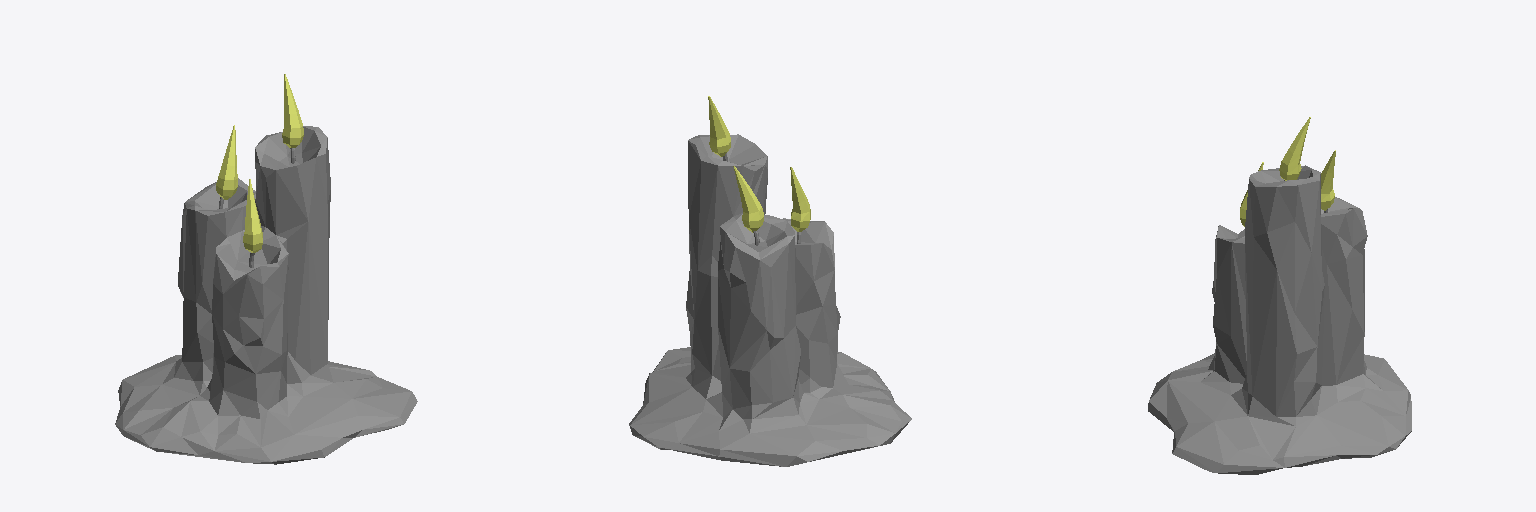
The model's file is candle14.obj.
The picture shows the model from 3 angles: view 1: azimuth 30°, elevation 25°; view 2: azimuth 150°, elevation 25°; view 3: azimuth 270°, elevation 25°; orthographic projection.
Parts seen in each view (by area): view 1: Object003, candleflame003, candleflame002, candleflame001; view 2: Object003, candleflame002, candleflame001, candleflame003; view 3: Object003, candleflame003, candleflame002.
Boxes of the visible parts, x1=… form: Object003: x1=115, y1=126, x2=417, y2=464; candleflame003: x1=282, y1=74, x2=303, y2=147; candleflame002: x1=216, y1=125, x2=237, y2=199; candleflame001: x1=243, y1=179, x2=262, y2=252; Object003: x1=629, y1=134, x2=911, y2=466; candleflame002: x1=733, y1=166, x2=763, y2=232; candleflame001: x1=790, y1=167, x2=810, y2=231; candleflame003: x1=708, y1=96, x2=730, y2=156; Object003: x1=1148, y1=165, x2=1411, y2=474; candleflame003: x1=1279, y1=117, x2=1310, y2=180; candleflame002: x1=1321, y1=150, x2=1335, y2=210.
Bounding box in the file's own units: 1.05 × 1.23 × 0.9231.